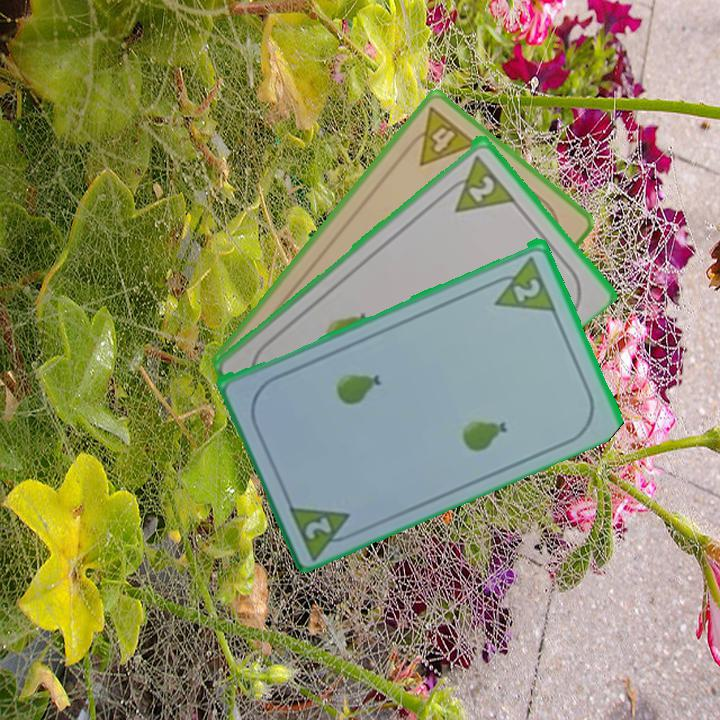2p: (438, 151, 517, 215), (284, 498, 362, 560), (509, 274, 544, 304)
4p: (400, 103, 480, 169)
